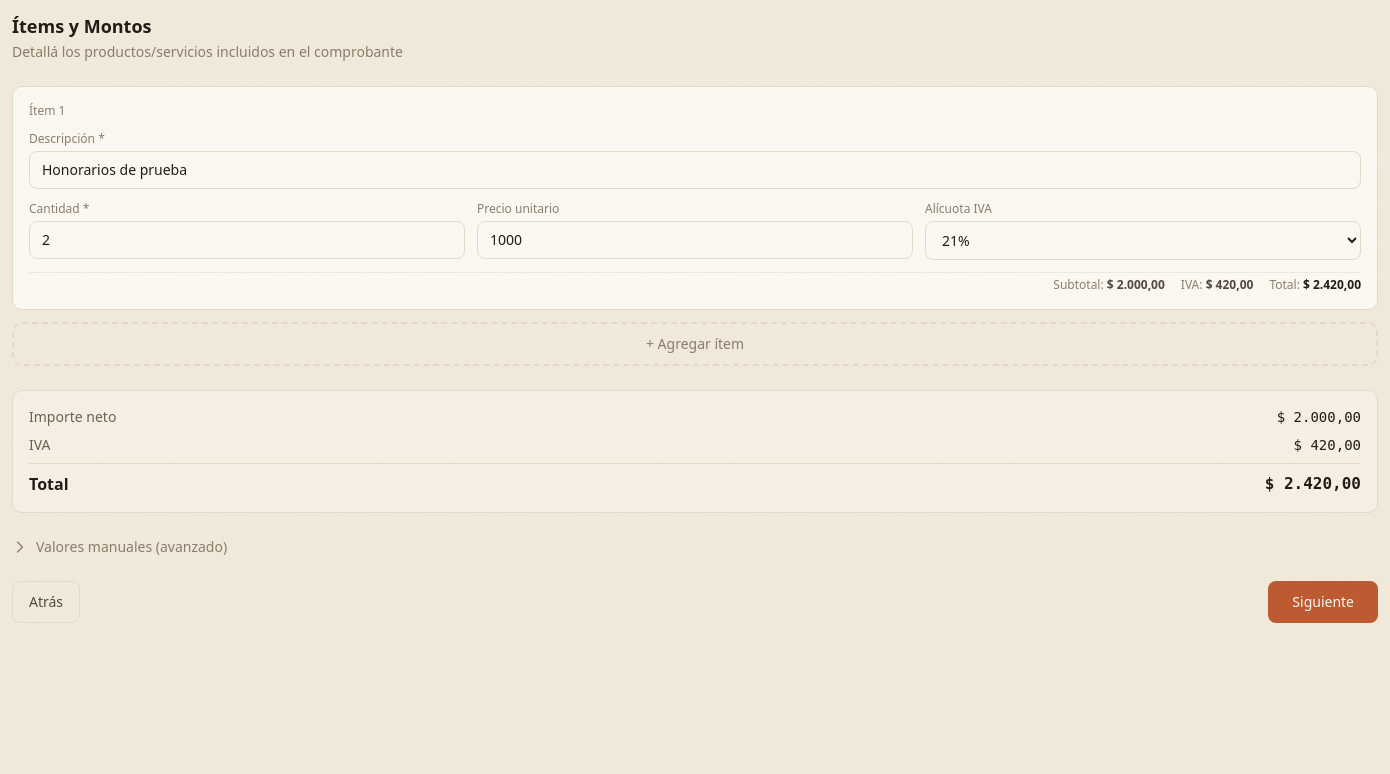
Scenario: StepItems › agrega y quita ítems; con uno solo no ofrece quitar
Expected: the button "Quitar" is not shown
Click the button "+ Agregar ítem". click: (695, 344)
box: [12,322,1378,366]
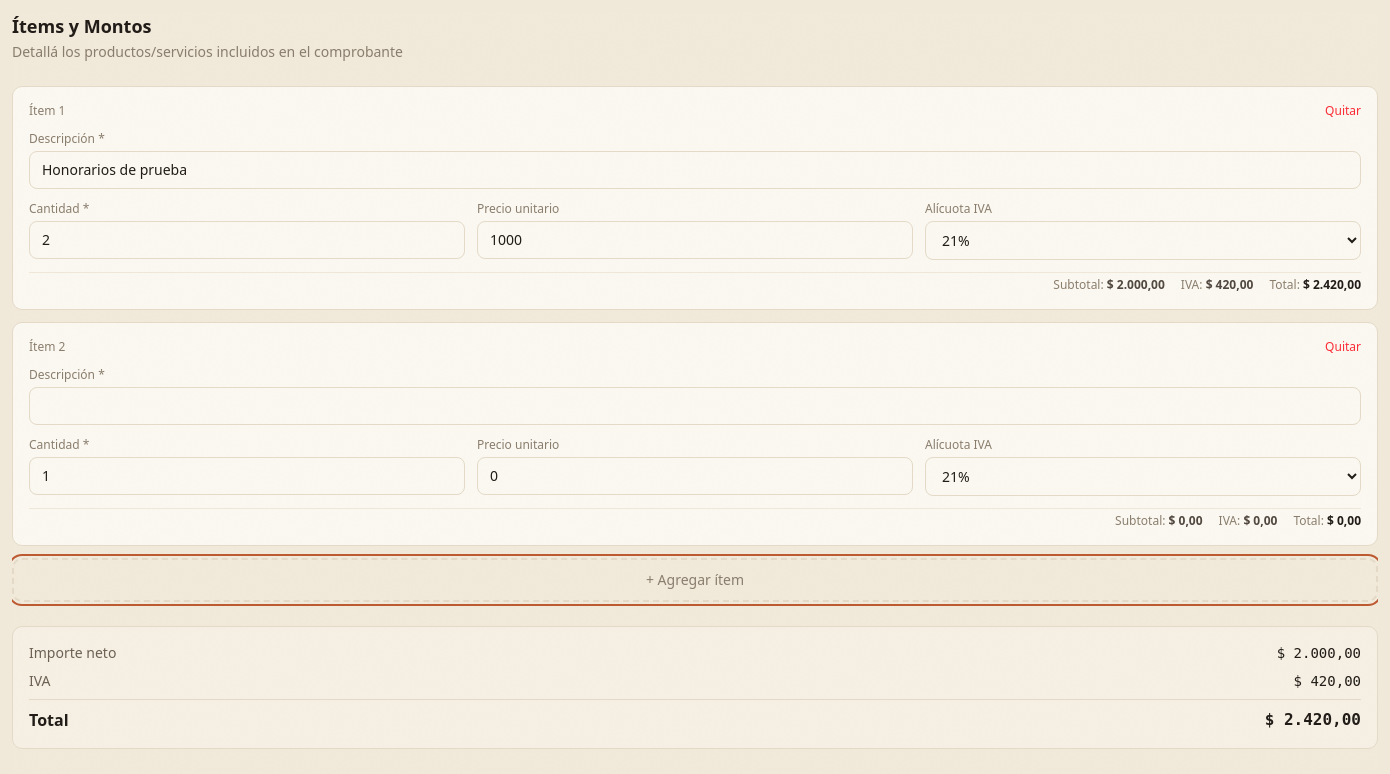
Now the text "Ítem 2" is shown, box [29,339,65,355]
Click the 2nd button "Quitar". click: (1343, 347)
box: [1325,339,1361,355]
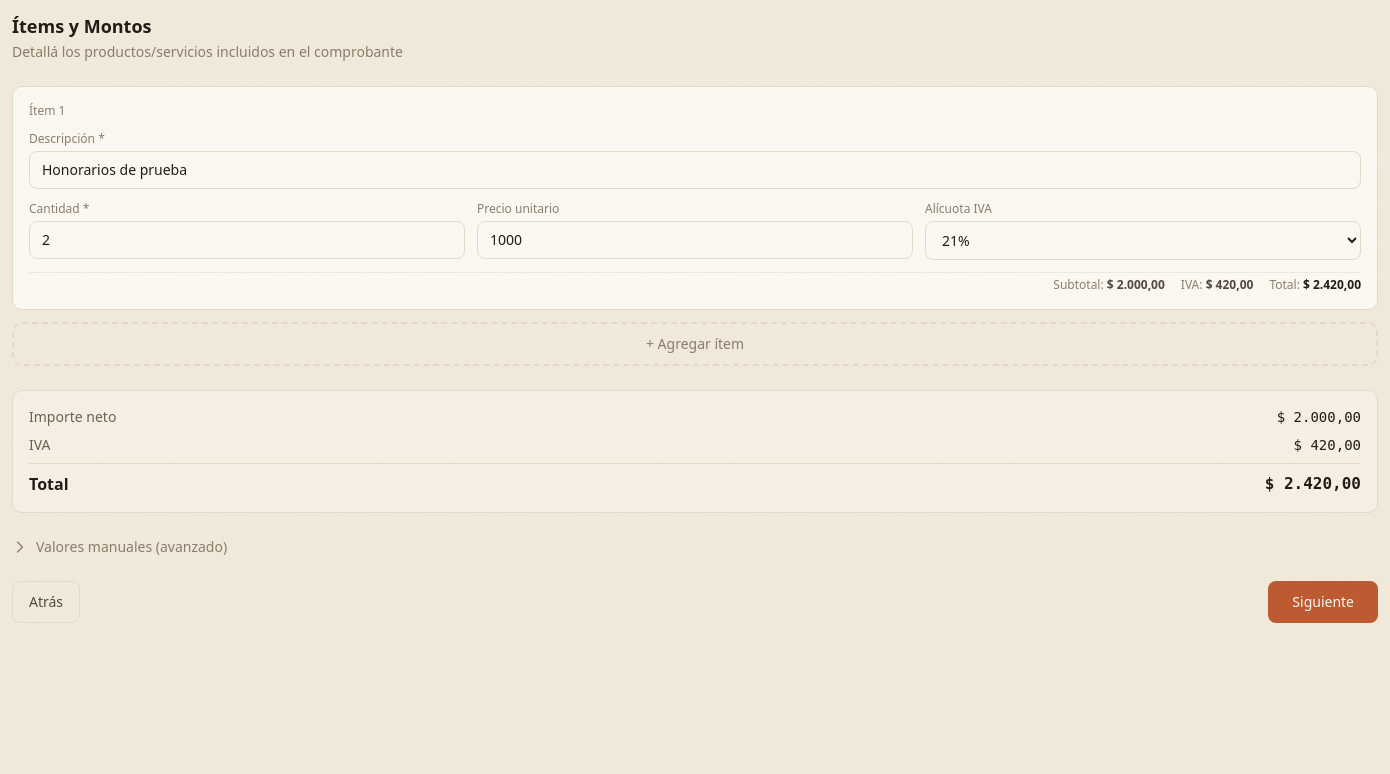
Expected: the text "Total: $ 2.420,00" is shown, [1269,277,1361,293]
Now the text "Ítem 2" is gone
